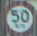Speed limit: (1, 2, 36, 33)
